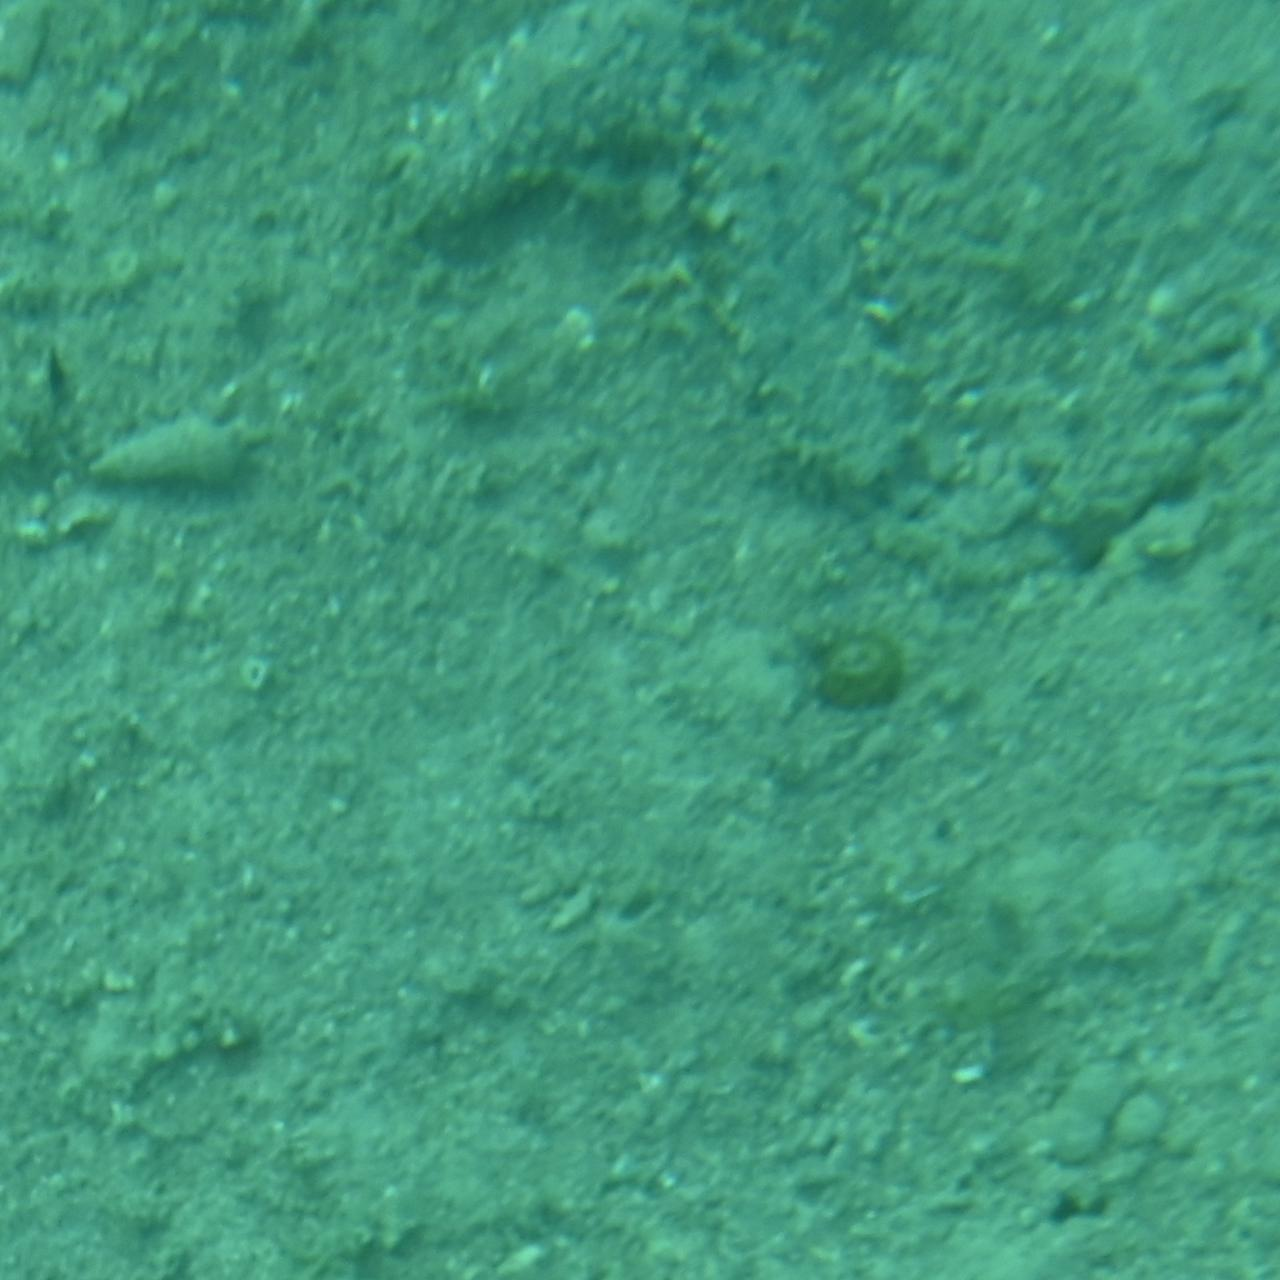Holothuria tubulosa: (380, 0, 900, 534)
